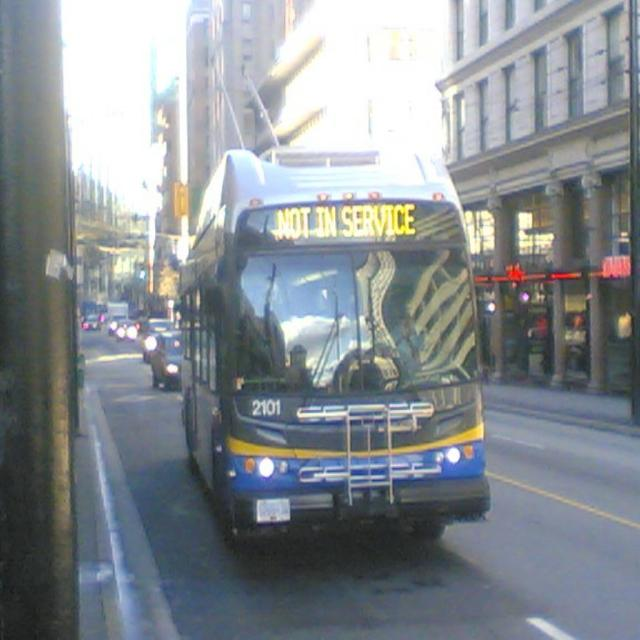car: (149, 327, 183, 387)
